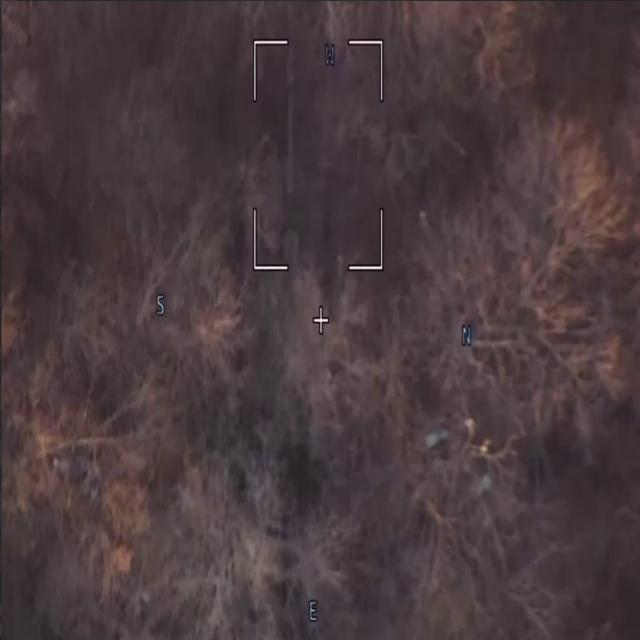fortification: (399, 418, 499, 533)
vehicle: (250, 26, 318, 204)
